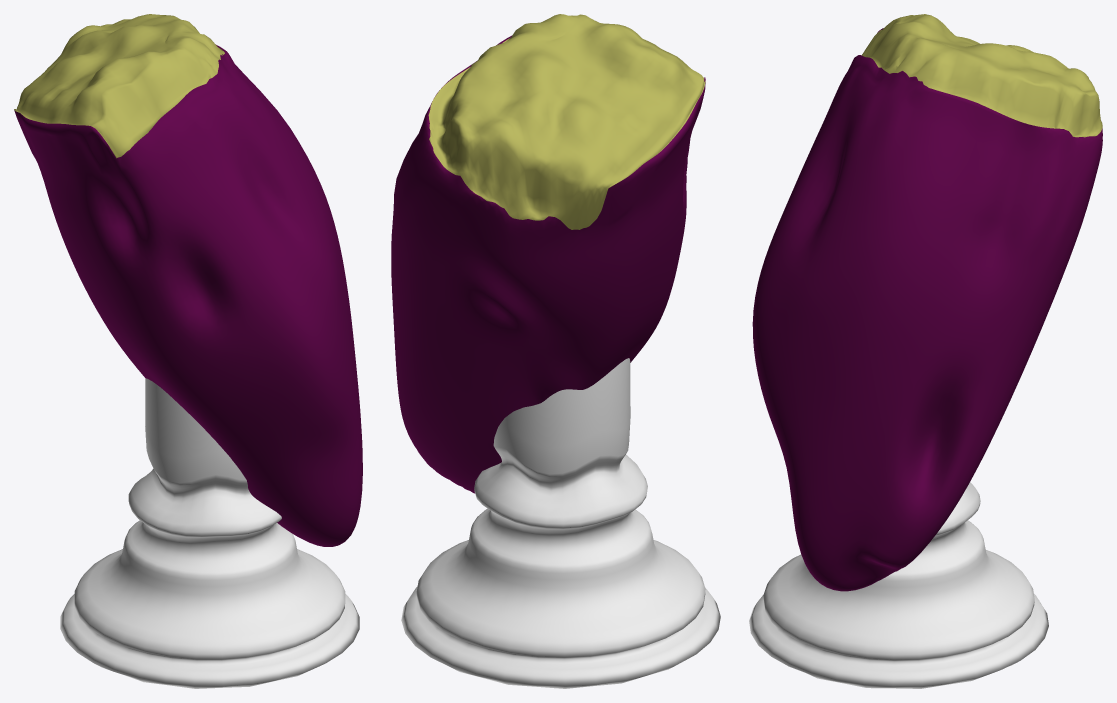
The model's file is SATSUMAIMO.fbx.
3 renders of one model, left to right at view 1: azimuth 30°, elevation 25°; view 2: azimuth 150°, elevation 25°; view 3: azimuth 270°, elevation 25°, orthographic. The views are drawn at different scales.
Parts seen in each view (by area): view 1: pCylinder19; view 2: pCylinder19; view 3: pCylinder19.
Boxes of the visible parts, box(x1,y1,x2,y2) form: pCylinder19: box(14, 14, 362, 688); pCylinder19: box(391, 14, 720, 688); pCylinder19: box(749, 14, 1102, 688).
Bounding box in the file's own units: 6.84 × 14.18 × 7.67.
